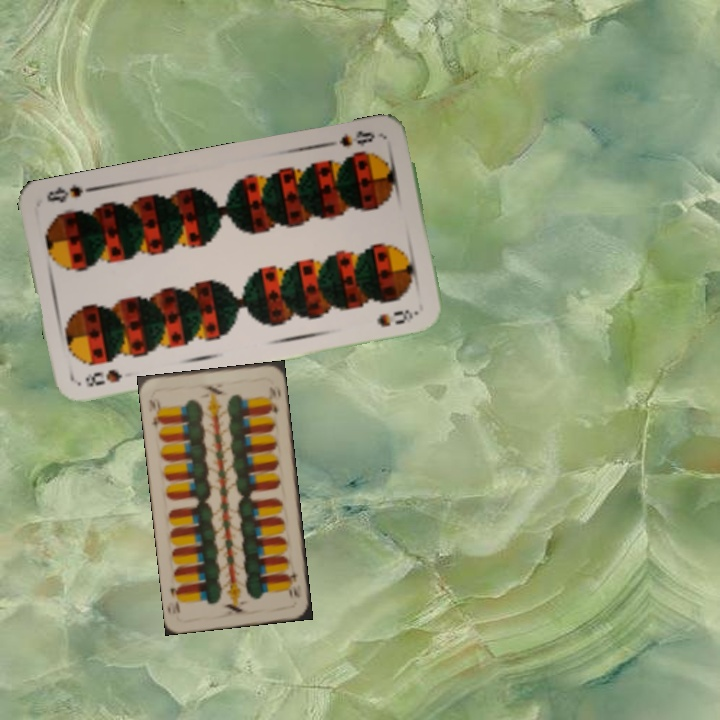E10: (144, 395, 165, 430), (283, 567, 303, 602)
S8: (81, 365, 125, 390), (335, 127, 377, 150)
